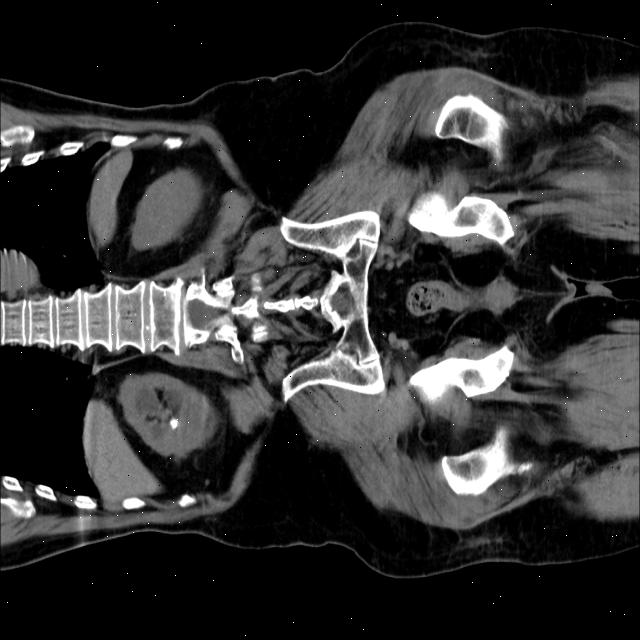kidneystone: (170, 417, 179, 428)
